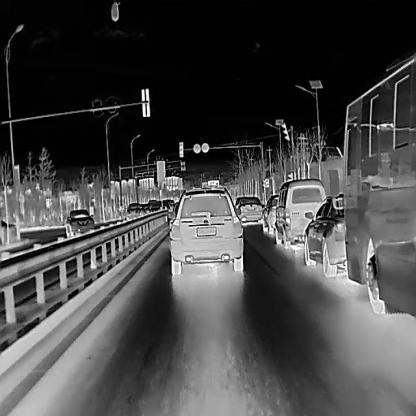bus: (332, 55, 416, 318)
car: (168, 186, 243, 275), (274, 177, 326, 249), (303, 192, 347, 275), (64, 207, 95, 240), (234, 194, 264, 224), (261, 193, 278, 235), (125, 202, 145, 224), (0, 218, 16, 244), (150, 200, 164, 216)
